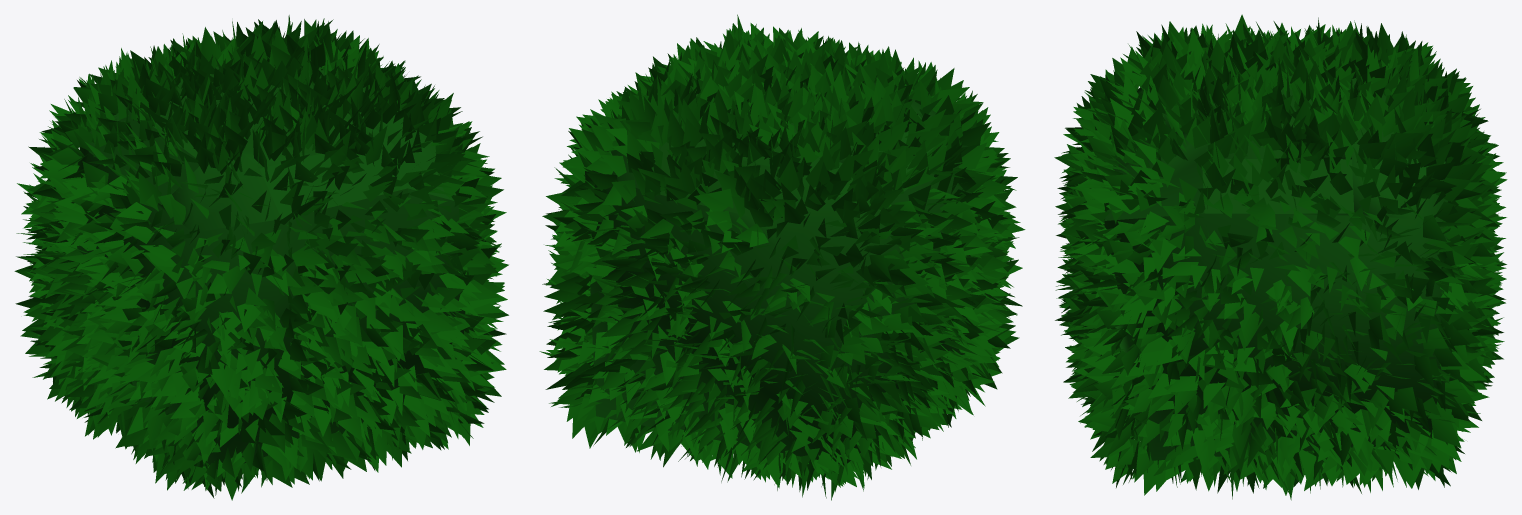
The model's file is bush.fbx.
The picture shows the model from 3 angles, left to right: view 1: azimuth 30°, elevation 25°; view 2: azimuth 150°, elevation 25°; view 3: azimuth 270°, elevation 25°; orthographic projection. The views are drawn at different scales.
Parts seen in each view (by area): view 1: bush|bushleaf.002|Dupli|2178; view 2: bush|bushleaf.002|Dupli|2178; view 3: bush|bushleaf.002|Dupli|2178.
Boxes of the visible parts, left/top/right/bottom form: bush|bushleaf.002|Dupli|2178: left=14, top=15, right=508, bottom=500; bush|bushleaf.002|Dupli|2178: left=539, top=14, right=1025, bottom=500; bush|bushleaf.002|Dupli|2178: left=1054, top=14, right=1507, bottom=500.
Bounding box in the file's own units: 152 × 137 × 151.
